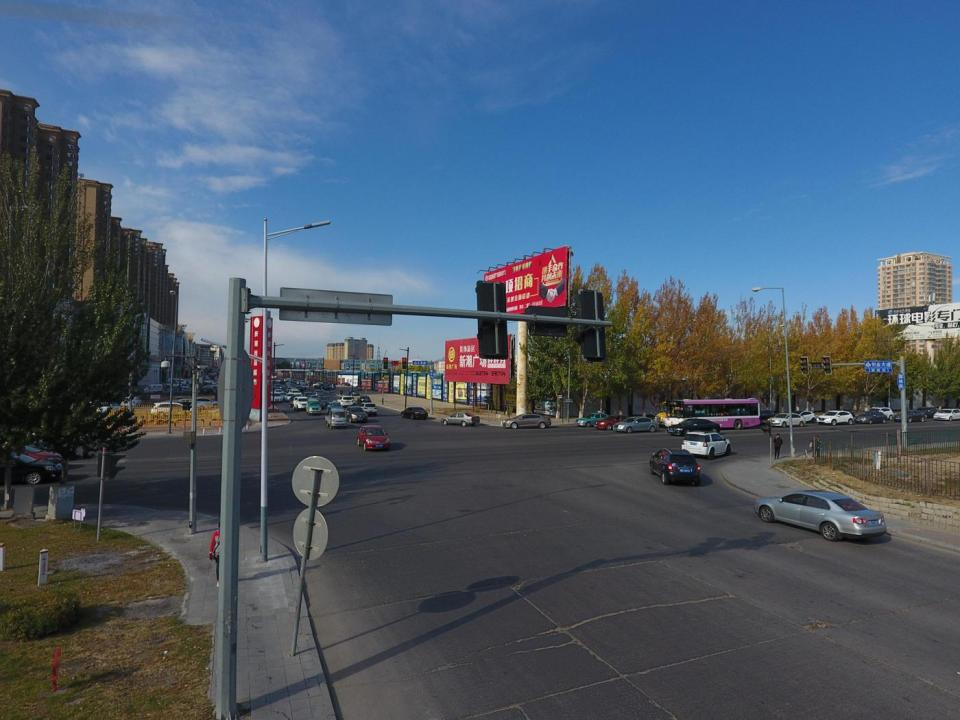bus: (665, 398, 761, 430), (654, 401, 708, 425)
car: (754, 490, 888, 543), (0, 449, 64, 486), (649, 447, 700, 486), (0, 441, 64, 471), (209, 518, 231, 589), (682, 430, 731, 459), (668, 418, 720, 437), (357, 424, 390, 453), (503, 413, 552, 430), (152, 401, 194, 419), (613, 416, 660, 432), (439, 412, 481, 428), (574, 412, 614, 427), (817, 410, 854, 426), (594, 415, 636, 429), (768, 413, 806, 426), (748, 409, 779, 424), (864, 407, 894, 422), (398, 406, 430, 420), (854, 412, 887, 425), (187, 397, 221, 409), (789, 410, 816, 425), (893, 410, 926, 422), (344, 407, 368, 423), (932, 408, 960, 421), (96, 401, 121, 414), (912, 407, 939, 419), (358, 401, 378, 416), (174, 399, 204, 409), (293, 396, 312, 411), (122, 396, 142, 408), (326, 401, 344, 414), (336, 396, 354, 406), (290, 396, 304, 407), (183, 386, 200, 395), (357, 396, 371, 405), (166, 388, 184, 395), (198, 386, 216, 393), (288, 389, 302, 398), (341, 396, 356, 404), (269, 393, 282, 402), (316, 396, 329, 405), (306, 395, 320, 403), (284, 393, 296, 402), (166, 381, 182, 387), (312, 390, 324, 398), (304, 392, 315, 400), (296, 380, 309, 386), (324, 384, 336, 390), (203, 379, 215, 384), (349, 389, 359, 395), (271, 385, 278, 393), (354, 385, 363, 391), (274, 389, 283, 395), (275, 388, 284, 394), (320, 385, 330, 390), (282, 392, 290, 398), (286, 386, 294, 392), (286, 377, 298, 381), (313, 382, 324, 386), (293, 380, 304, 384), (316, 384, 326, 388), (296, 386, 304, 391), (275, 384, 282, 389), (296, 380, 307, 383), (342, 382, 350, 386), (285, 384, 292, 388)
truck: (324, 408, 347, 430)
van: (305, 398, 322, 416), (142, 384, 164, 394), (167, 377, 188, 386)
